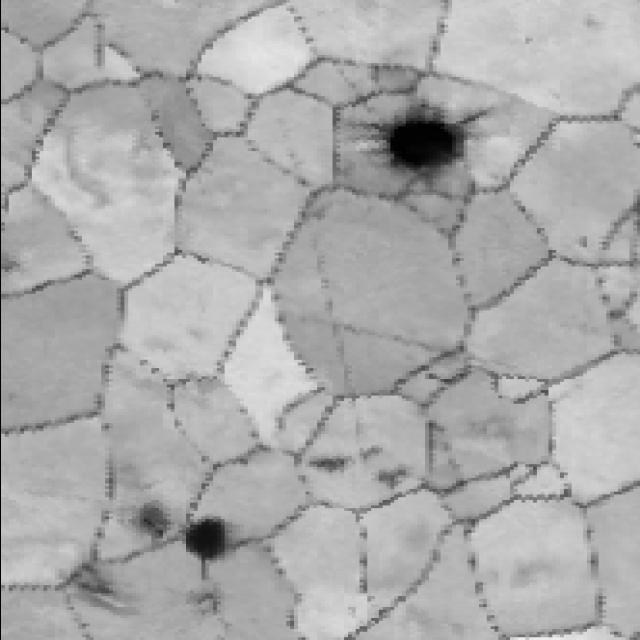good_void: (376, 106, 474, 181), (48, 554, 143, 621), (180, 507, 236, 564), (349, 445, 409, 493), (125, 497, 174, 544), (177, 586, 226, 618), (514, 24, 559, 51), (566, 227, 601, 260), (308, 453, 346, 473), (421, 370, 454, 385)
